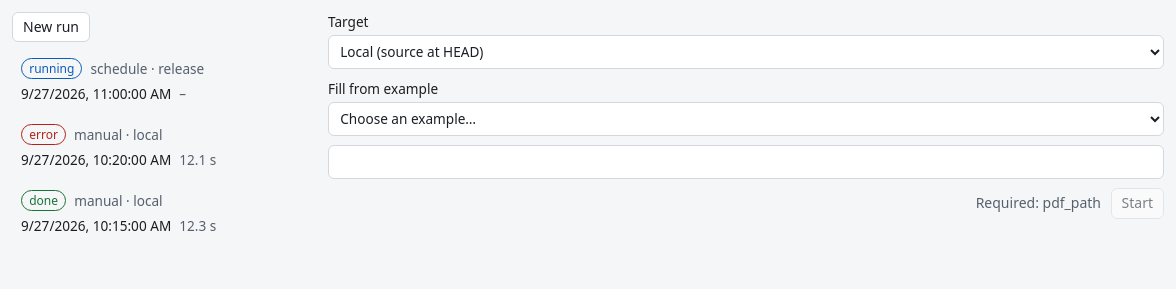
Test: RunForm › Start posts a local run after committing the design, then shows the new run
Type "/tmp/inv.pdf" into the field named "pdf_path" at [746, 162], box top-left (328, 145), bottom-right (1164, 179)
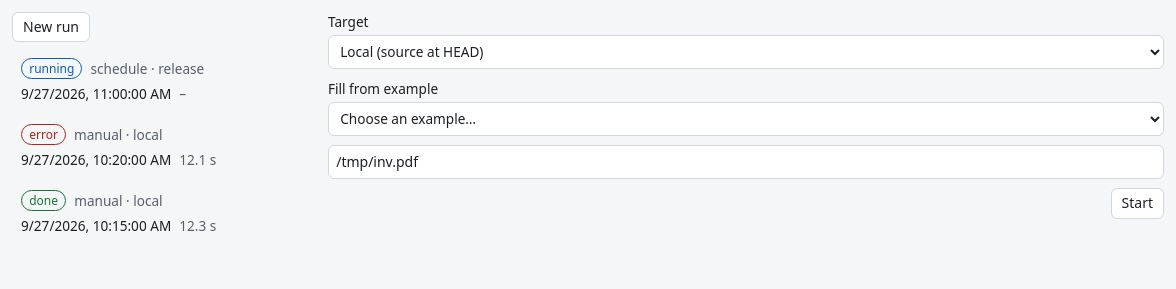
Click the button "Start" at [1137, 204], box top-left (1111, 188), bottom-right (1164, 219)
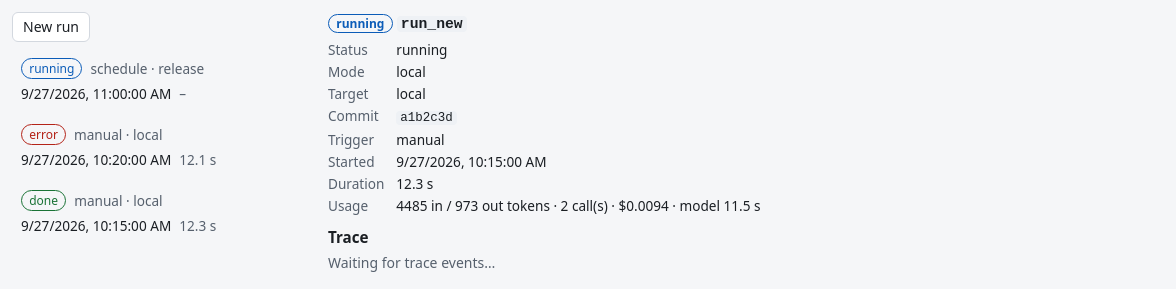
expect the text "run_new" is shown: met, box top-left (397, 16), bottom-right (467, 32)
expect the element named "Run run_new" is shown: met, box top-left (328, 14), bottom-right (760, 272)
